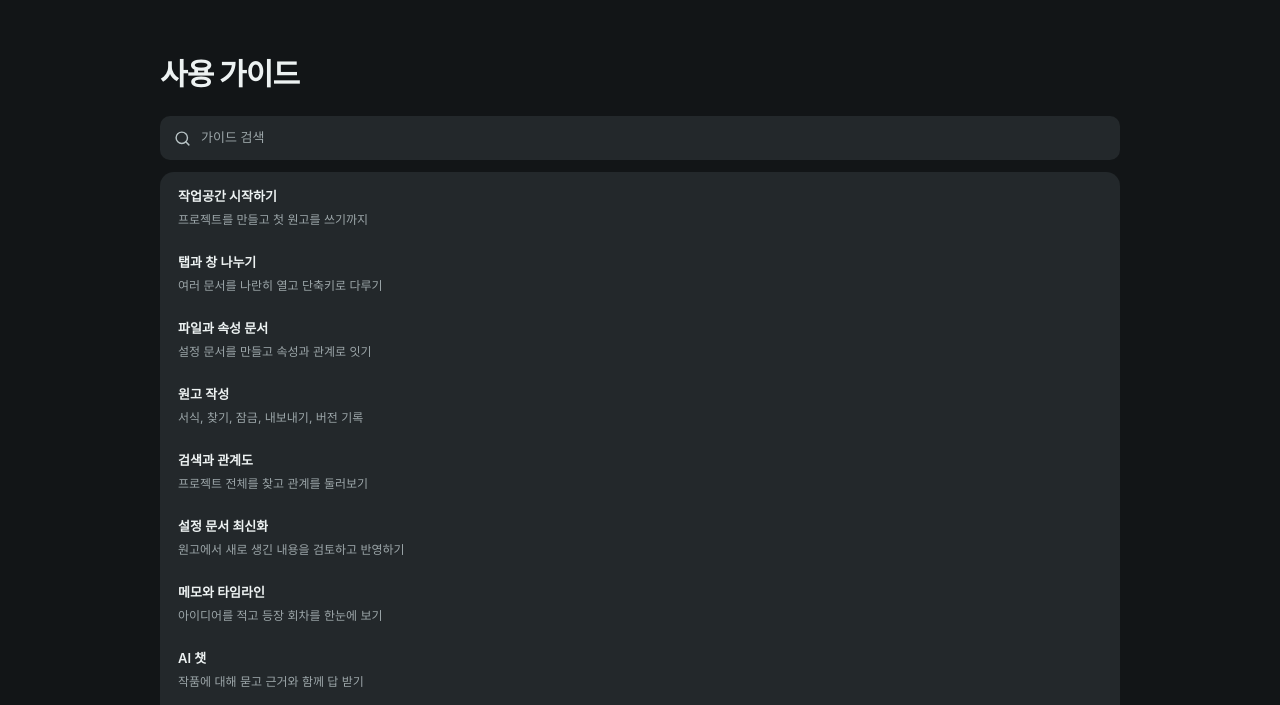
Test: WorkspaceHelpView › opens the AI chat topic from the list
Click the button "AI 챗 작품에 대해 묻고 근거와 함께 답 받기". click: (271, 681)
box: [164,638,1116,702]
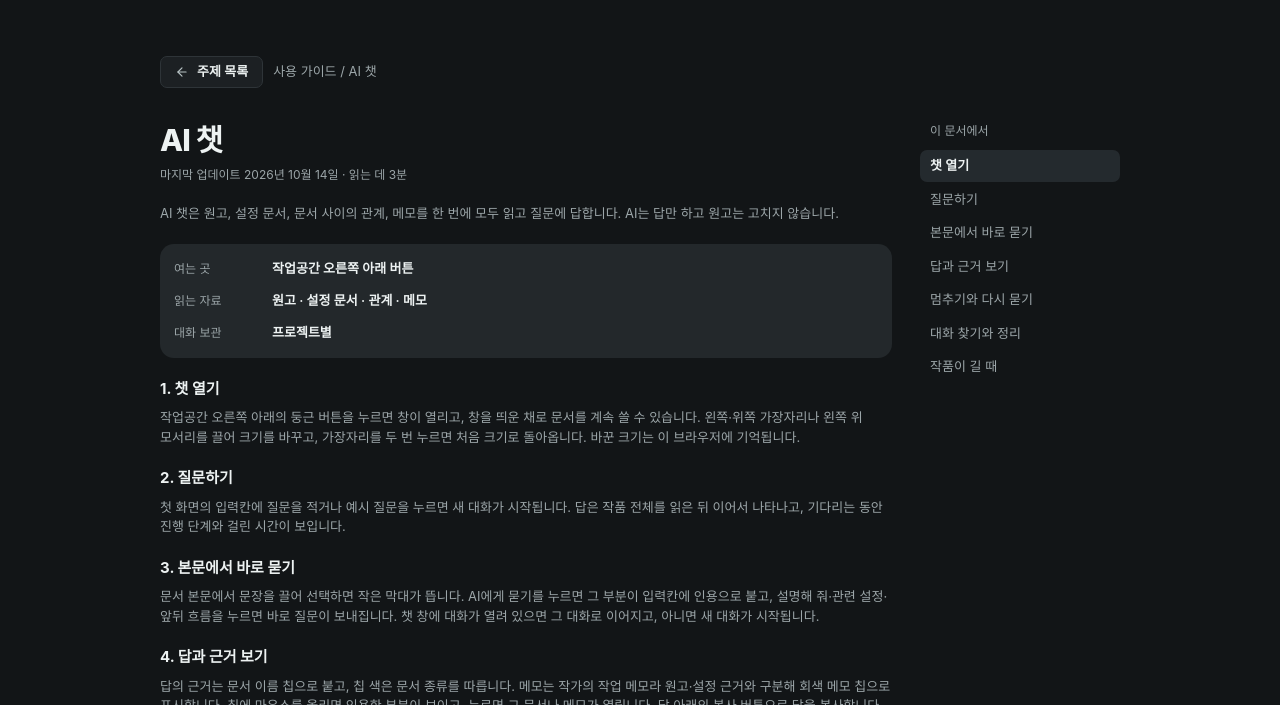
Expected: the heading "AI 챗" is shown, [160,122,222,158]
Expected: the navigation bar "이 문서에서" shows "본문에서 바로 묻기", [920,217,1120,248]
